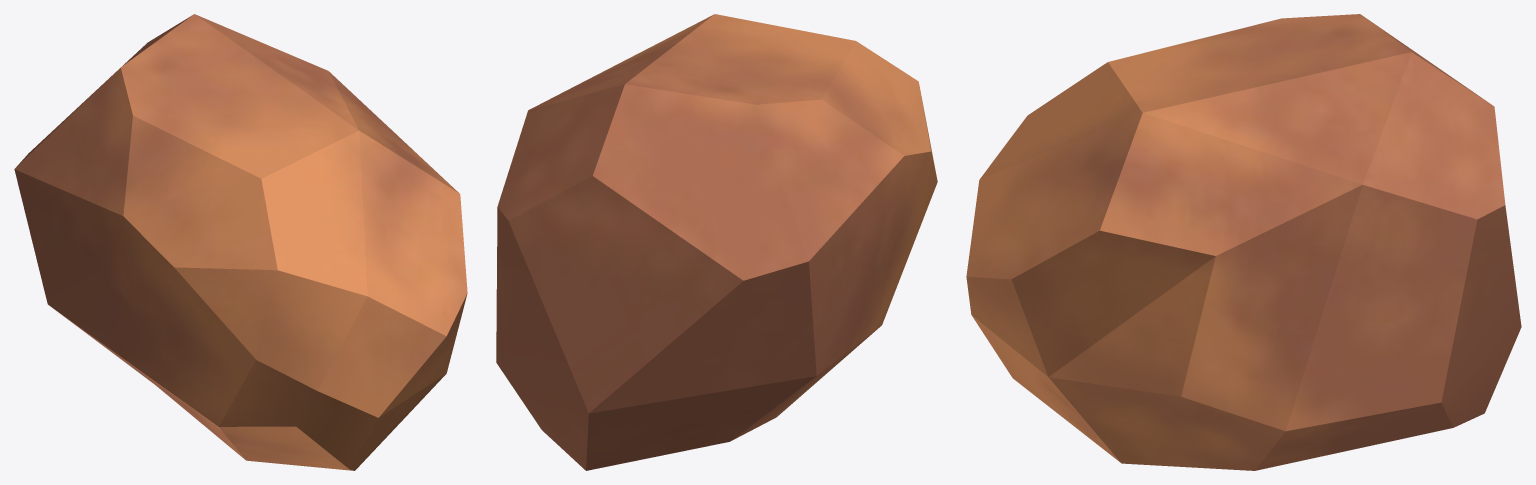
File: Rock_9.gltf
3 views of the same model, side by side, from view 1: azimuth 30°, elevation 25°; view 2: azimuth 150°, elevation 25°; view 3: azimuth 270°, elevation 25° (orthographic). The views are drawn at different scales.
Visible parts, largest first — view 1: Rock_9; view 2: Rock_9; view 3: Rock_9.
Part boxes in pixels (bbox=[...]): Rock_9: bbox=[14, 14, 467, 470]; Rock_9: bbox=[496, 14, 937, 470]; Rock_9: bbox=[966, 14, 1521, 470].
Size of the model in its own units: 1.56 by 1.67 by 2.12.
1 material, 1 textured.
